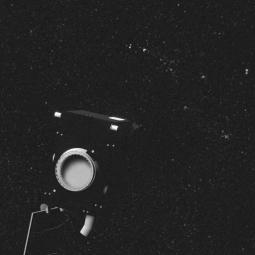proba_3_csc: (19, 103, 156, 255)
